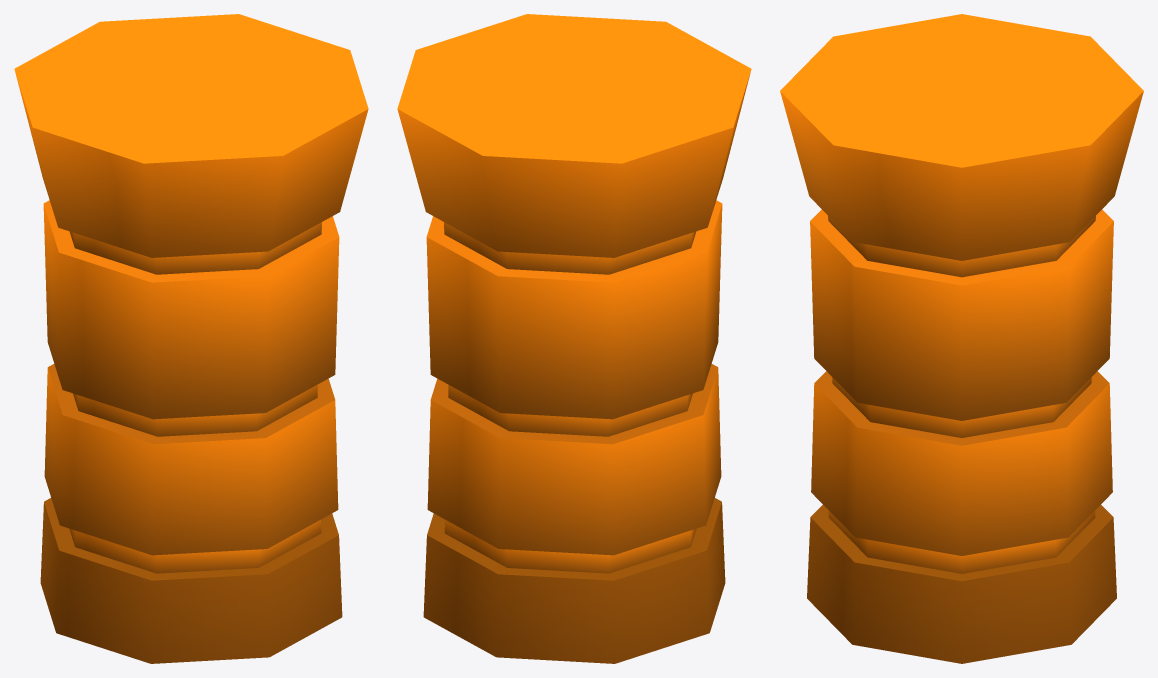
File: bronze_grip_113.glb
3 renders of one model, left to right at view 1: azimuth 30°, elevation 25°; view 2: azimuth 150°, elevation 25°; view 3: azimuth 270°, elevation 25°, orthographic.
Parts seen in each view (by area): view 1: bronze_grip_113; view 2: bronze_grip_113; view 3: bronze_grip_113.
Boxes of the visible parts, box(x1,y1,x2,y2) form: bronze_grip_113: box(14, 14, 368, 663); bronze_grip_113: box(397, 14, 751, 663); bronze_grip_113: box(780, 14, 1143, 663).
Bounding box in the file's own units: 2.2 × 3.38 × 2.2.
1 material, 1 textured.
